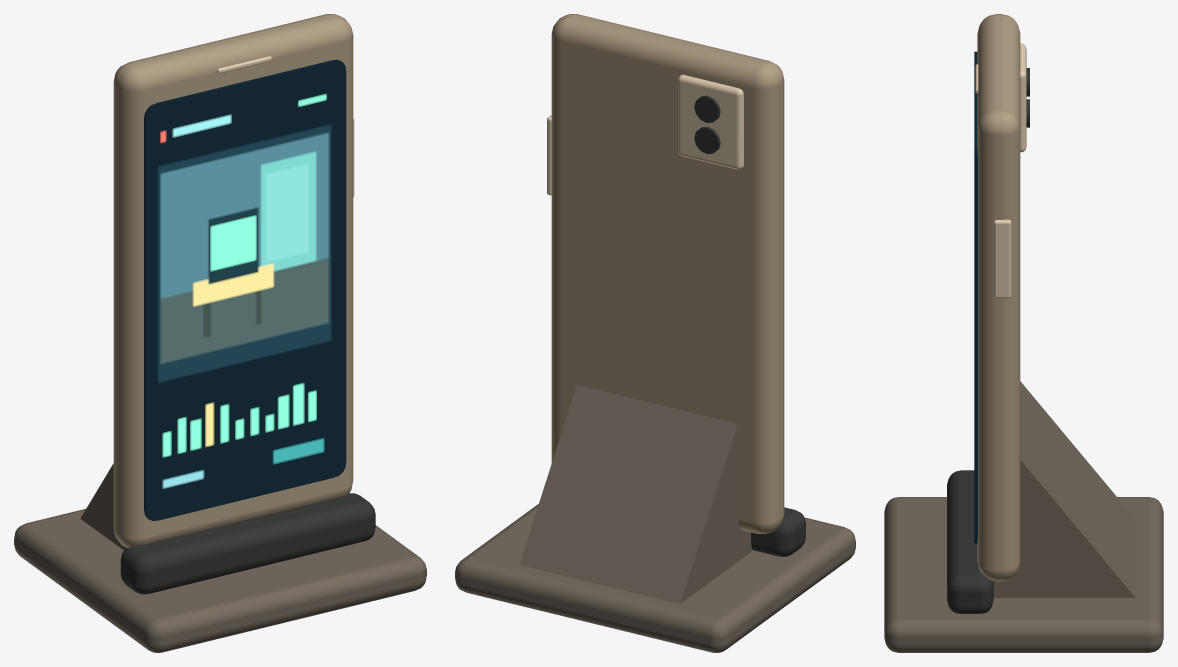
The picture shows the model from 3 angles, left to right: view 1: azimuth 30°, elevation 25°; view 2: azimuth 150°, elevation 25°; view 3: azimuth 270°, elevation 25°; orthographic projection. The views are drawn at different scales.
Visible parts, largest first — view 1: phone-screen, phone-body-authored, phone-cradle-base, phone-cradle-lip, phone-cradle-wedge; view 2: phone-body-authored, phone-cradle-wedge, phone-cradle-base, phone-camera-island, phone-cradle-lip; view 3: phone-cradle-base, phone-body-authored, phone-cradle-wedge, phone-cradle-lip, phone-screen, phone-side-key, phone-camera-island.
Boxes of the visible parts, <box> form: phone-screen: <box>144,59,346,520</box>; phone-body-authored: <box>113,14,353,547</box>; phone-cradle-base: <box>14,509,426,652</box>; phone-cradle-lip: <box>120,493,375,594</box>; phone-cradle-wedge: <box>80,463,127,550</box>; phone-body-authored: <box>551,14,784,534</box>; phone-cradle-wedge: <box>519,385,751,603</box>; phone-cradle-base: <box>455,504,855,652</box>; phone-camera-island: <box>678,74,743,169</box>; phone-cradle-lip: <box>751,507,805,556</box>; phone-cradle-base: <box>884,497,1163,652</box>; phone-body-authored: <box>977,14,1020,581</box>; phone-cradle-wedge: <box>993,381,1135,597</box>; phone-cradle-lip: <box>947,470,993,613</box>; phone-screen: <box>974,51,977,543</box>; phone-side-key: <box>993,219,1011,298</box>; phone-camera-island: <box>1020,43,1026,152</box>.
Bounding box in the file's own units: 0.088 × 0.163 × 0.078.
5 materials, 1 textured.
